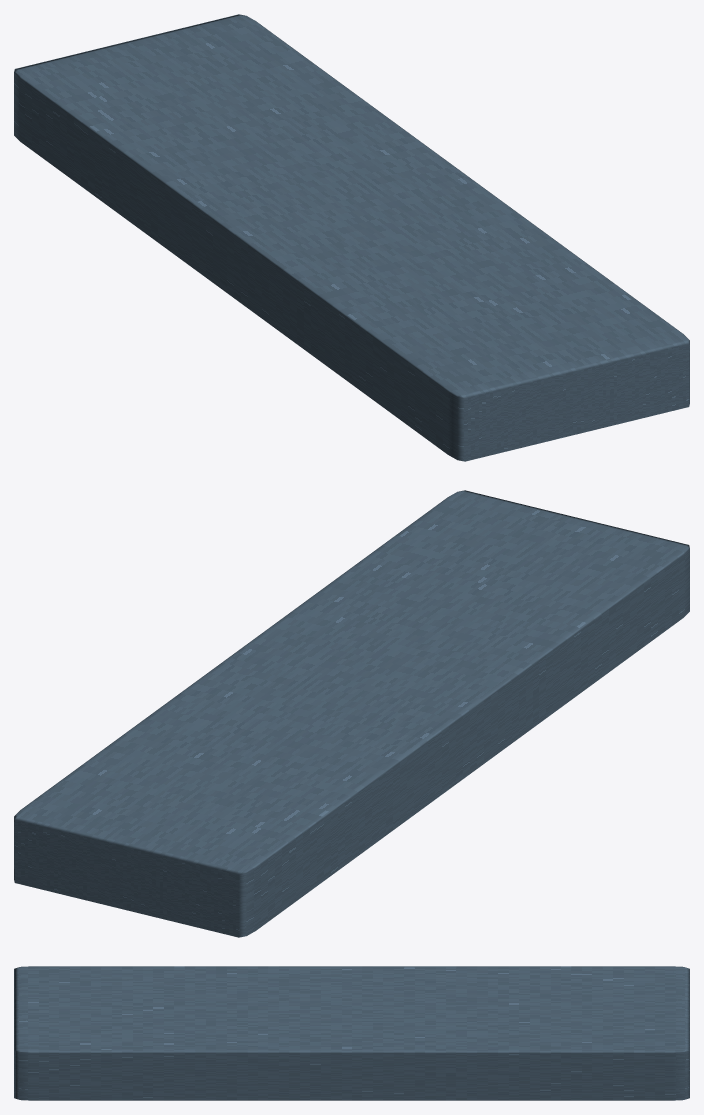
File: splint.glb
The picture shows the model from 3 angles, top to bottom: view 1: azimuth 30°, elevation 25°; view 2: azimuth 150°, elevation 25°; view 3: azimuth 270°, elevation 25°; orthographic projection. The views are drawn at different scales.
Parts seen in each view (by area): view 1: panel; view 2: panel; view 3: panel.
Boxes of the visible parts, bbox=[...] form: panel: bbox=[14, 14, 689, 461]; panel: bbox=[14, 490, 689, 937]; panel: bbox=[14, 966, 689, 1100].
Bounding box in the file's own units: 0.13 × 0.035 × 0.43.
1 material, 1 textured.
